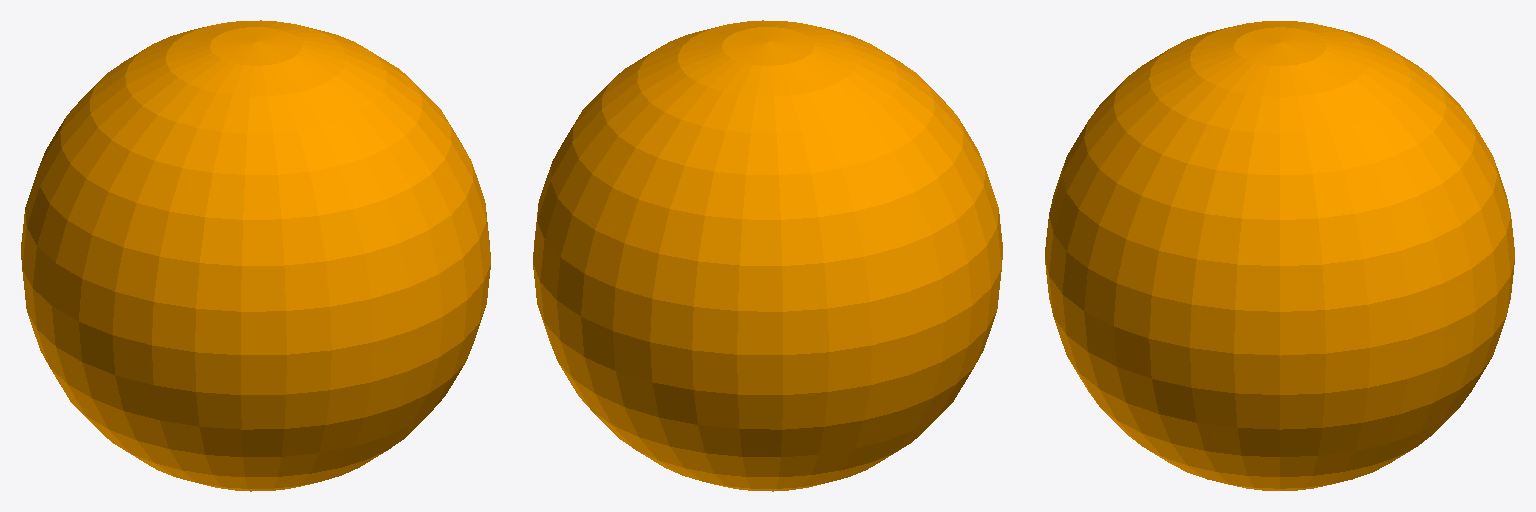
robot.urdf — my_projectile:
<?xml version="1.0" ?>
<!--
This file is used to build the target in URDF format.
-->
<robot name="my_projectile" xmlns:xacro="http://www.ros.org/wiki/xacro">

  <link name="world" />

  <joint name="projectile_joint" type="floating">
    <!--origin xyz="0.3255 0 0.89" rpy="0 0 0" /-->
    <origin xyz="0.005 0 0.565" rpy="0 0 0" />
    <parent link="world" />
    <child link="projectile_link" />
    <dynamics damping="0.01" friction="0.1" />
  </joint>

  <link name="projectile_link">
    <visual>
      <origin xyz="0 0 0" rpy="0 0 0"/>
      <geometry>
        <sphere radius="0.02"/>
        <!--mesh filename="package://robot_simulation/target_description/meshes/ping_pong_ball.STL" scale="0.001 0.001 0.001"/-->
      </geometry>
      
      <material name="orange">
        <color rgba="1.0 0.647 0.0 1.0"/>
      </material>
    </visual>

    <collision>
      <origin xyz="0.0 0 0" rpy="0 0 0"/>
      <geometry>
        <sphere radius="0.02"/>
        <!--mesh filename="package://robot_simulation/target_description/meshes/ping_pong_ball.STL" scale="0.001 0.001 0.001"/-->
      </geometry>
    </collision>

    <inertial>
      <mass value="0.0029"/>
      <origin xyz="0 0 0" rpy="0 0 0"/>
      <inertia ixx="6.7e-7" ixy="0.0" ixz="0.0" iyy="6.7e-7" iyz="0.0" izz="6.7e-7"/>
    </inertial>    
  </link>

  <gazebo reference="projectile_link">
    <gravity>1</gravity>
    <maxVel>1000</maxVel>
    <mu1>0.5</mu1>
    <mu2>0.5</mu2>
    <kp>1e+20</kp>
    <kd>1.0</kd>
    <material>Gazebo/Orange</material>
  </gazebo>

</robot>

--- What the picture shows (computed from the rendered views, not written in the file) ---
3 views of the same robot in one strip: view 1: azimuth 30°, elevation 25°; view 2: azimuth 150°, elevation 25°; view 3: azimuth 270°, elevation 25° (orthographic).
Model my_projectile with 2 links and 1 joints (1 floating), rooted at world, posed every joint at zero.
Links seen in each view (by area): view 1: projectile_link; view 2: projectile_link; view 3: projectile_link.
Boxes of the visible links, box(x1,y1,x2,y2) form: projectile_link: box(21, 20, 490, 491); projectile_link: box(533, 20, 1002, 491); projectile_link: box(1045, 21, 1514, 490).
Bounding box of the posed robot: 0.04 × 0.04 × 0.04 m (x, y, z).
Geometry: primitives only (box / cylinder / sphere), no mesh files.